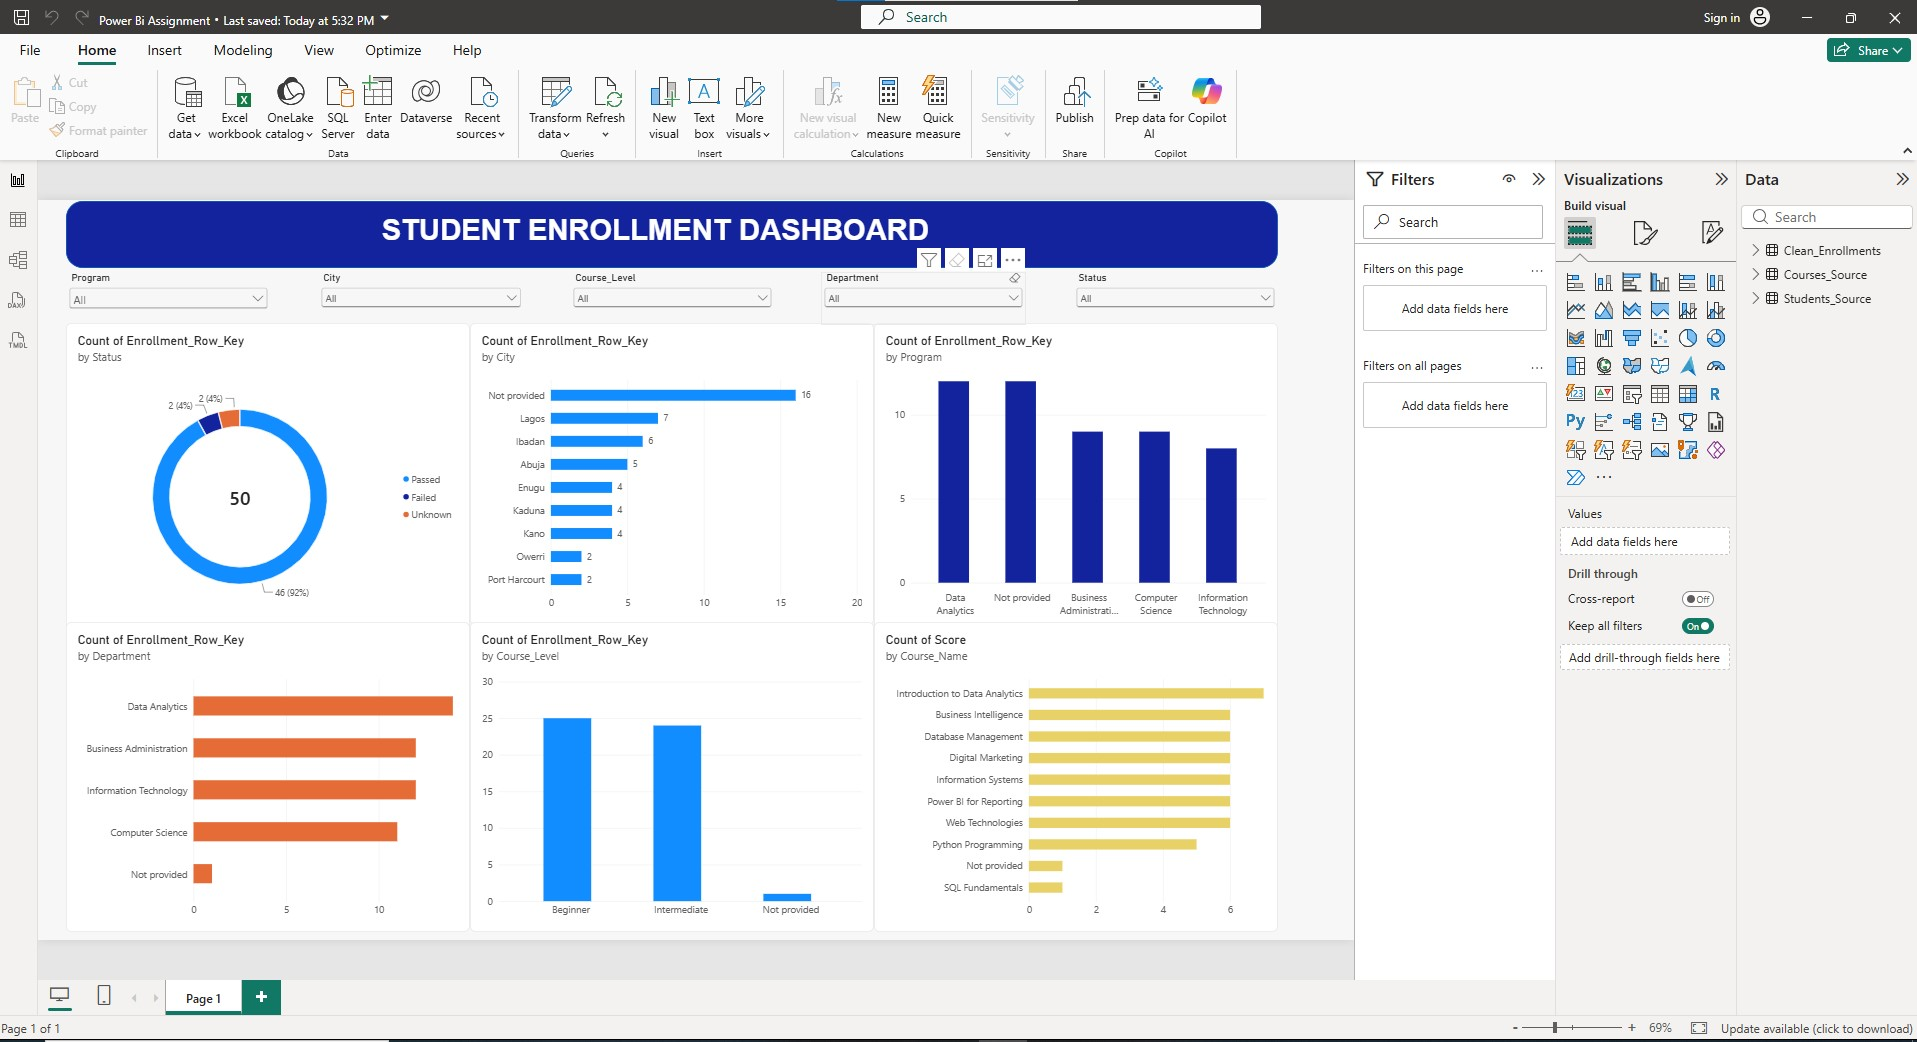

Layout of this report page (visuals, bound fields, positions):
{"tool":"powerbi","page":{"name":"Page 1","canvas":[1920,1080],"ordinal":0},"visuals":[{"type":"donutChart","fields":{"Category":["Clean_Enrollments.Status"],"Y":["CountNonNull(Clean_Enrollments.Enrollment_Row_Key)"]},"box":[40.9,179.5,589.4,447.9],"z":0},{"type":"clusteredBarChart","fields":{"Category":["Clean_Enrollments.City"],"Y":["CountNonNull(Clean_Enrollments.Enrollment_Row_Key)"]},"box":[630.3,179.5,589.4,440.6],"z":1000},{"type":"clusteredColumnChart","fields":{"Category":["Clean_Enrollments.Program"],"Y":["CountNonNull(Clean_Enrollments.Enrollment_Row_Key)"]},"box":[1219.7,179.5,589.4,447.9],"z":2000},{"type":"clusteredBarChart","fields":{"Category":["Clean_Enrollments.Department"],"Y":["CountNonNull(Clean_Enrollments.Enrollment_Row_Key)"]},"box":[40.9,615.7,589.4,452.3],"z":3000},{"type":"clusteredColumnChart","fields":{"Category":["Clean_Enrollments.Course_Level"],"Y":["CountNonNull(Clean_Enrollments.Enrollment_Row_Key)"]},"box":[630.3,615.7,589.4,452.3],"z":4000},{"type":"clusteredBarChart","fields":{"Category":["Clean_Enrollments.Course_Name"],"Y":["CountNonNull(Clean_Enrollments.Score)"]},"box":[1219.7,615.7,589.4,452.3],"z":5000},{"type":"shape","box":[40.9,1.5,1768.3,97.8],"z":6000},{"type":"textbox","box":[302,19,1243,80.2],"z":7000},{"type":"slicer","fields":{"Values":["Clean_Enrollments.Program"]},"box":[40.9,105,299.1,70],"z":8000},{"type":"slicer","fields":{"Values":["Clean_Enrollments.City"]},"box":[407.8,105,300.5,68.6],"z":9000},{"type":"slicer","fields":{"Values":["Clean_Enrollments.Course_Level"]},"box":[776.2,105,299.1,77.3],"z":9001},{"type":"slicer","fields":{"Values":["Clean_Enrollments.Department"]},"box":[1143.1,105,299.1,77.3],"z":9002},{"type":"slicer","fields":{"Values":["Clean_Enrollments.Status"]},"box":[1510,105,299.1,77.3],"z":9003}]}

Visuals, with their boxes on the page's 1920x1080 design canvas (x1, y1, x2, y2). These are canvas units, not pixel positions in the 1917x1042 screenshot, which may show the page scaled, cropped or inside an application window:
donutChart - Clean_Enrollments.Status x CountNonNull(Clean_Enrollments.Enrollment_Row_Key): locate(41, 180, 630, 627)
clusteredBarChart - Clean_Enrollments.City x CountNonNull(Clean_Enrollments.Enrollment_Row_Key): locate(630, 180, 1220, 620)
clusteredColumnChart - Clean_Enrollments.Program x CountNonNull(Clean_Enrollments.Enrollment_Row_Key): locate(1220, 180, 1809, 627)
clusteredBarChart - Clean_Enrollments.Department x CountNonNull(Clean_Enrollments.Enrollment_Row_Key): locate(41, 616, 630, 1068)
clusteredColumnChart - Clean_Enrollments.Course_Level x CountNonNull(Clean_Enrollments.Enrollment_Row_Key): locate(630, 616, 1220, 1068)
clusteredBarChart - Clean_Enrollments.Course_Name x CountNonNull(Clean_Enrollments.Score): locate(1220, 616, 1809, 1068)
shape: locate(41, 2, 1809, 99)
textbox: locate(302, 19, 1545, 99)
slicer - Clean_Enrollments.Program: locate(41, 105, 340, 175)
slicer - Clean_Enrollments.City: locate(408, 105, 708, 174)
slicer - Clean_Enrollments.Course_Level: locate(776, 105, 1075, 182)
slicer - Clean_Enrollments.Department: locate(1143, 105, 1442, 182)
slicer - Clean_Enrollments.Status: locate(1510, 105, 1809, 182)
